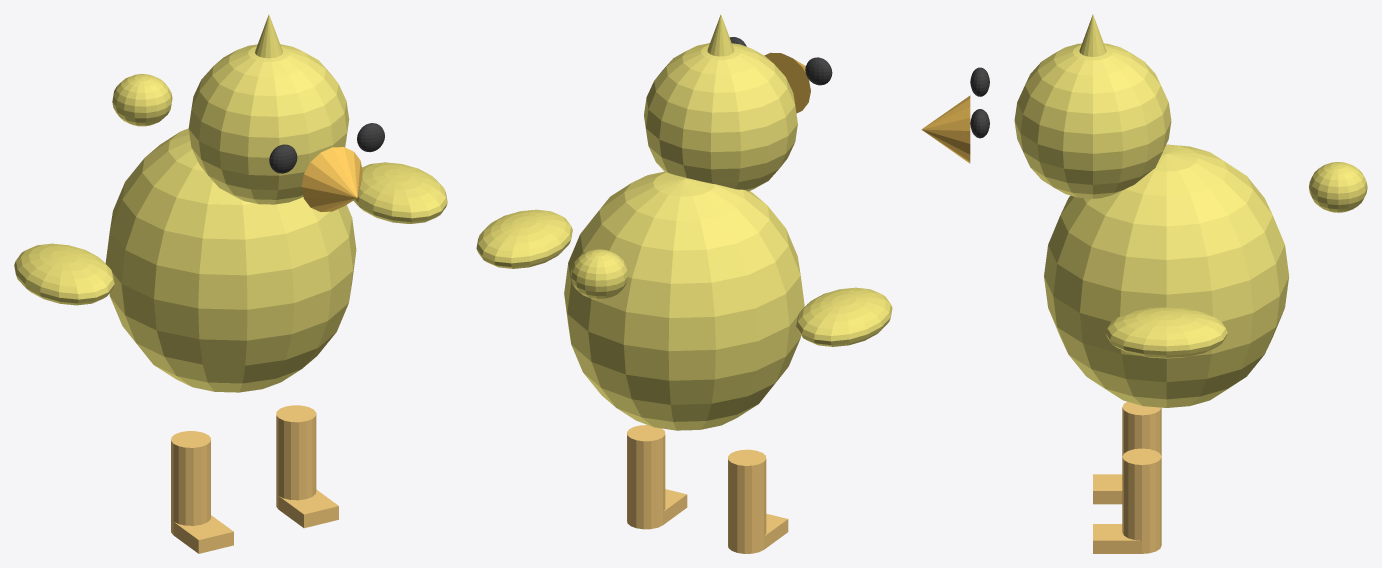
The model's file is baby_chick.glb.
3 views of the same model, side by side, from view 1: azimuth 30°, elevation 25°; view 2: azimuth 150°, elevation 25°; view 3: azimuth 270°, elevation 25° (orthographic). The views are drawn at different scales.
Parts seen in each view (by area): view 1: body, head, left_wing, right_wing, right_leg, left_leg, beak, tail, left_foot, right_foot, crown_feather, left_eye (+1 smaller); view 2: body, head, right_wing, left_wing, left_leg, right_leg, tail, beak, crown_feather, left_eye, right_foot, left_foot; view 3: body, head, right_wing, right_leg, tail, left_leg, beak, right_foot, left_foot, crown_feather.
Boxes of the visible parts, x1,y1,x2,y2 form: body: (105, 128, 356, 392); head: (188, 44, 349, 204); left_wing: (14, 243, 114, 305); right_wing: (353, 162, 447, 223); right_leg: (276, 405, 316, 509); left_leg: (171, 431, 210, 534); beak: (301, 147, 362, 211); tail: (112, 74, 172, 126); left_foot: (173, 515, 233, 553); right_foot: (278, 489, 338, 528); crown_feather: (255, 14, 282, 58); left_eye: (269, 144, 297, 173); body: (564, 171, 804, 430); head: (644, 43, 797, 191); right_wing: (476, 209, 572, 268); left_wing: (796, 287, 892, 346); left_leg: (728, 449, 766, 553); right_leg: (627, 425, 665, 529); tail: (570, 249, 628, 299); beak: (764, 52, 810, 113); crown_feather: (707, 14, 734, 56); left_eye: (805, 57, 832, 85); right_foot: (663, 489, 687, 524); left_foot: (764, 513, 788, 549); body: (1044, 144, 1289, 407); head: (1014, 43, 1171, 198); right_wing: (1105, 307, 1227, 358); right_leg: (1122, 448, 1161, 553); tail: (1309, 162, 1367, 212); left_leg: (1122, 401, 1161, 456); beak: (921, 95, 970, 163); right_foot: (1093, 524, 1141, 553); left_foot: (1093, 474, 1122, 504); crown_feather: (1079, 14, 1106, 56).
Bounding box in the file's own units: 0.94 × 1.14 × 0.91.
